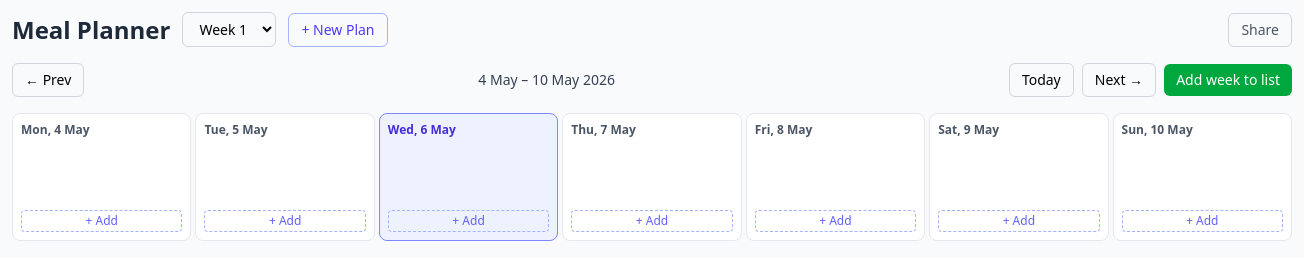
Test case: MealPlannerPage › prev week button navigates back a week
Expected: the text "4 May – 10 May 2026" is shown, [478,70,615,89]
Click the button "← Prev".
click(48, 80)  # box [12,63,84,97]
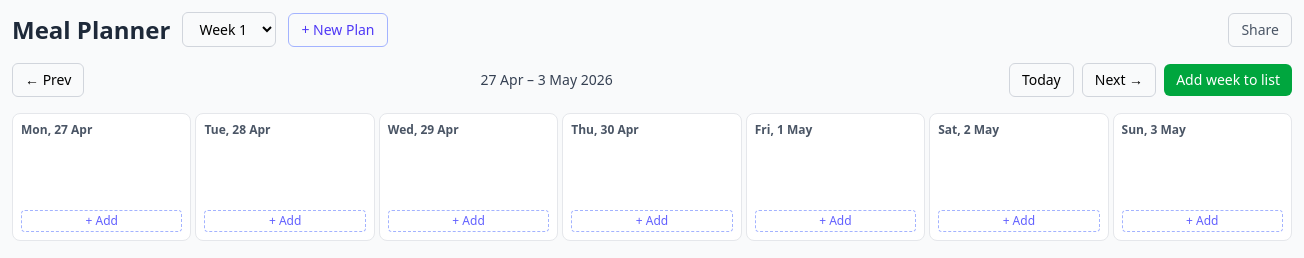
Now the text "27 Apr – 3 May 2026" is shown, box [480,70,613,89]
